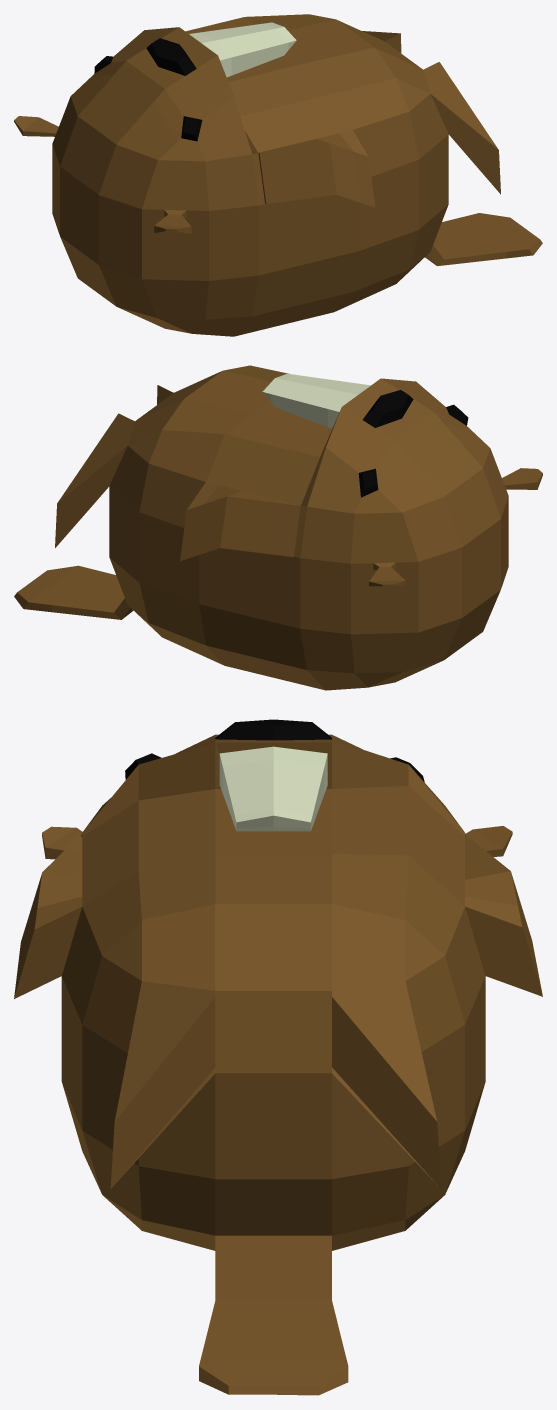
File: beaver_s.fbx
The picture shows the model from 3 angles, top to bottom: view 1: azimuth 30°, elevation 25°; view 2: azimuth 150°, elevation 25°; view 3: azimuth 270°, elevation 25°; orthographic projection. The views are drawn at different scales.
Visible parts, largest first — view 1: Cube, Cube.006, Cube.005, Cube.003, Cube.004, Cube.001, Cube.002; view 2: Cube, Cube.006, Cube.005, Cube.003, Cube.004, Cube.001, Cube.002; view 3: Cube.004, Cube.003, Cube.005, Cube, Cube.001, Cube.002, Cube.006.
Part boxes in pixels (<box>): Cube: <box>91,27,289,336</box>; Cube.006: <box>14,73,193,327</box>; Cube.005: <box>185,17,375,330</box>; Cube.003: <box>245,14,421,311</box>; Cube.004: <box>342,22,505,273</box>; Cube.001: <box>198,22,296,75</box>; Cube.002: <box>459,213,542,258</box>; Cube: <box>268,378,469,690</box>; Cube.006: <box>366,425,542,681</box>; Cube.005: <box>180,400,330,683</box>; Cube.003: <box>136,365,289,665</box>; Cube.004: <box>51,373,216,627</box>; Cube.001: <box>262,373,361,427</box>; Cube.002: <box>14,565,97,612</box>; Cube.004: <box>88,913,459,1348</box>; Cube.003: <box>61,853,485,1250</box>; Cube.005: <box>14,798,542,998</box>; Cube: <box>67,719,481,851</box>; Cube.001: <box>222,759,324,831</box>; Cube.002: <box>199,1348,348,1395</box>; Cube.006: <box>42,826,512,859</box>.
Bounding box in the file's own units: 369 × 216 × 250.
